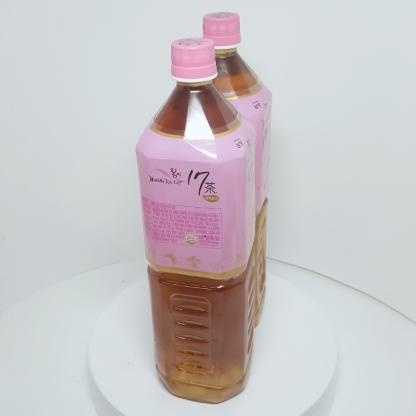--17-----1-5L: (135, 37, 257, 404)
